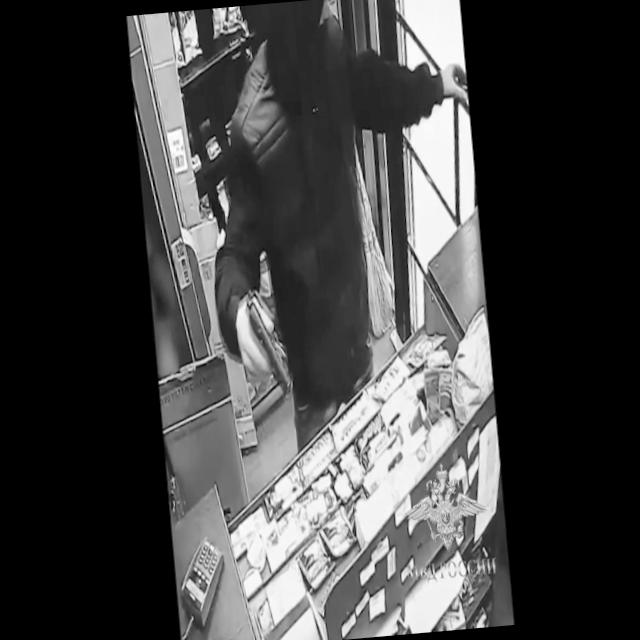gun: (237, 295, 294, 405)
person with a gun: (194, 0, 495, 429)
